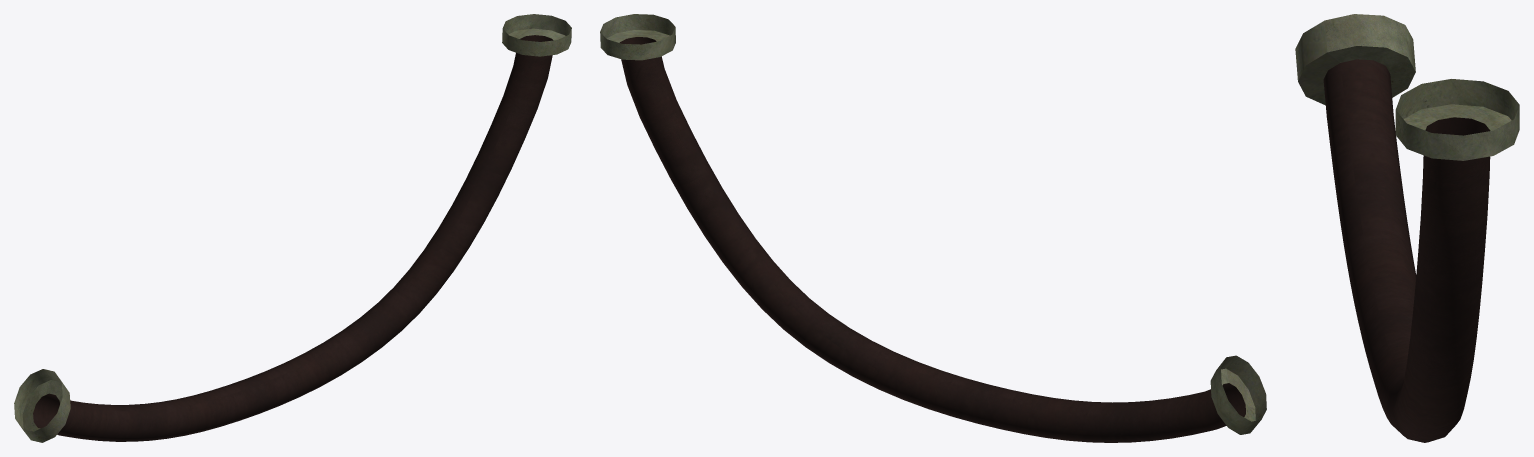
The model's file is Cable06-.fbx.
3 renders of one model, left to right at view 1: azimuth 30°, elevation 25°; view 2: azimuth 150°, elevation 25°; view 3: azimuth 270°, elevation 25°, orthographic. The views are drawn at different scales.
Visible parts, largest first — view 1: Cab06; view 2: Cab06; view 3: Cab06.
Boxes of the visible parts, x1,y1,x2,y2 form: Cab06: (14, 14, 571, 442); Cab06: (600, 14, 1266, 442); Cab06: (1295, 14, 1519, 442).
Bounding box in the file's own units: 77.57 × 39.05 × 14.67.
